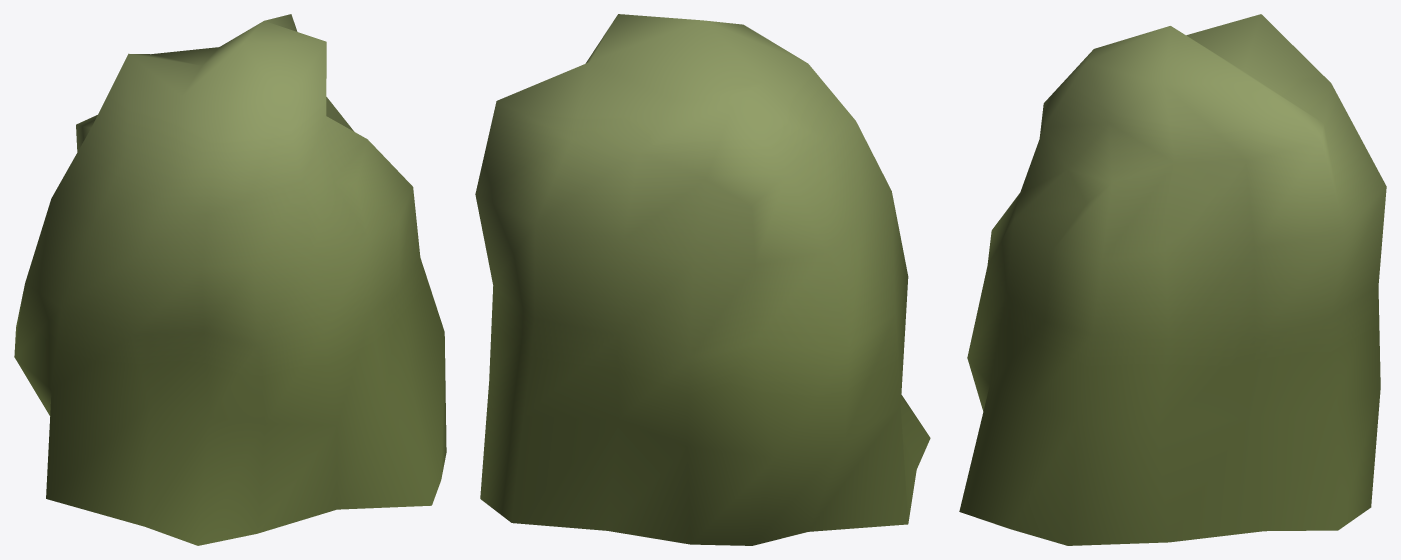
The model's file is WE02_Brush1.fbx.
3 views of the same model, side by side, from view 1: azimuth 30°, elevation 25°; view 2: azimuth 150°, elevation 25°; view 3: azimuth 270°, elevation 25° (orthographic). The views are drawn at different scales.
Parts seen in each view (by area): view 1: WE02_Brush1; view 2: WE02_Brush1; view 3: WE02_Brush1.
Part boxes in pixels (x1=…): WE02_Brush1: x1=14, y1=14, x2=446, y2=545; WE02_Brush1: x1=475, y1=14, x2=930, y2=545; WE02_Brush1: x1=959, y1=14, x2=1386, y2=545.
Bounding box in the file's own units: 5.23 × 5.74 × 5.06.
